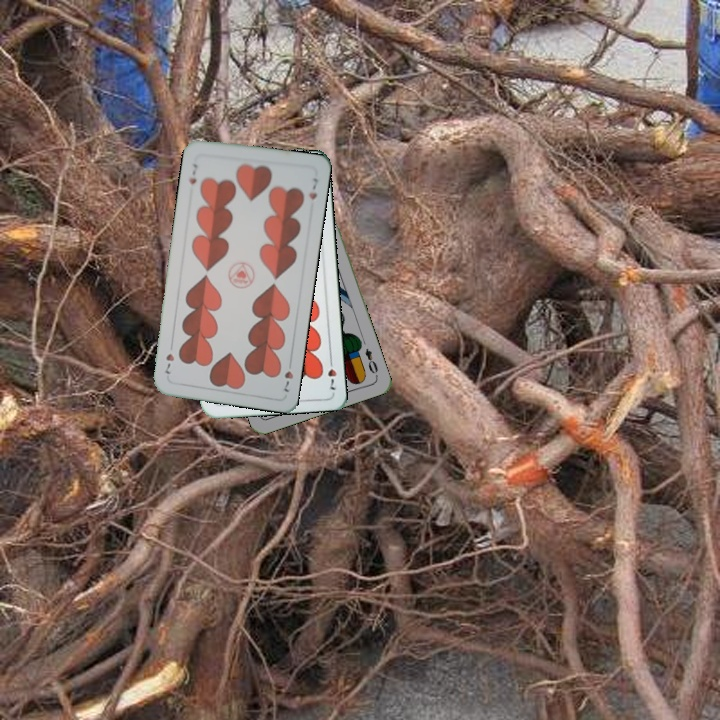EO: (361, 344, 380, 379)
H7: (279, 356, 296, 395), (324, 353, 339, 393), (185, 160, 201, 187)
